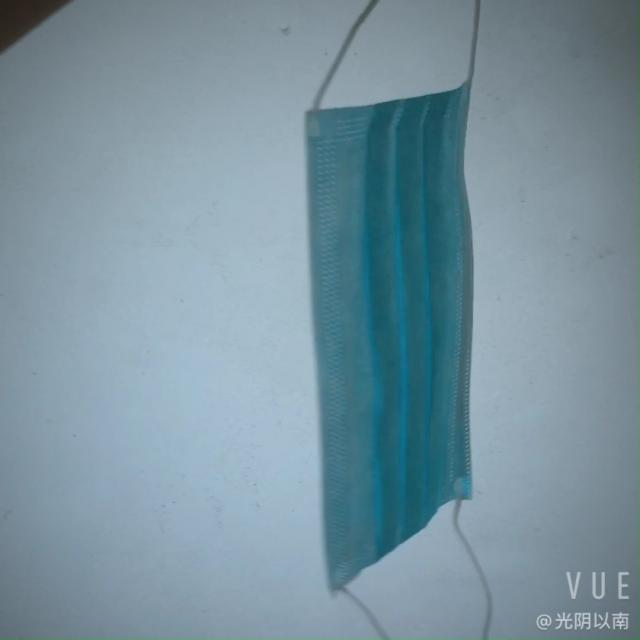face mask: (295, 61, 501, 582)
